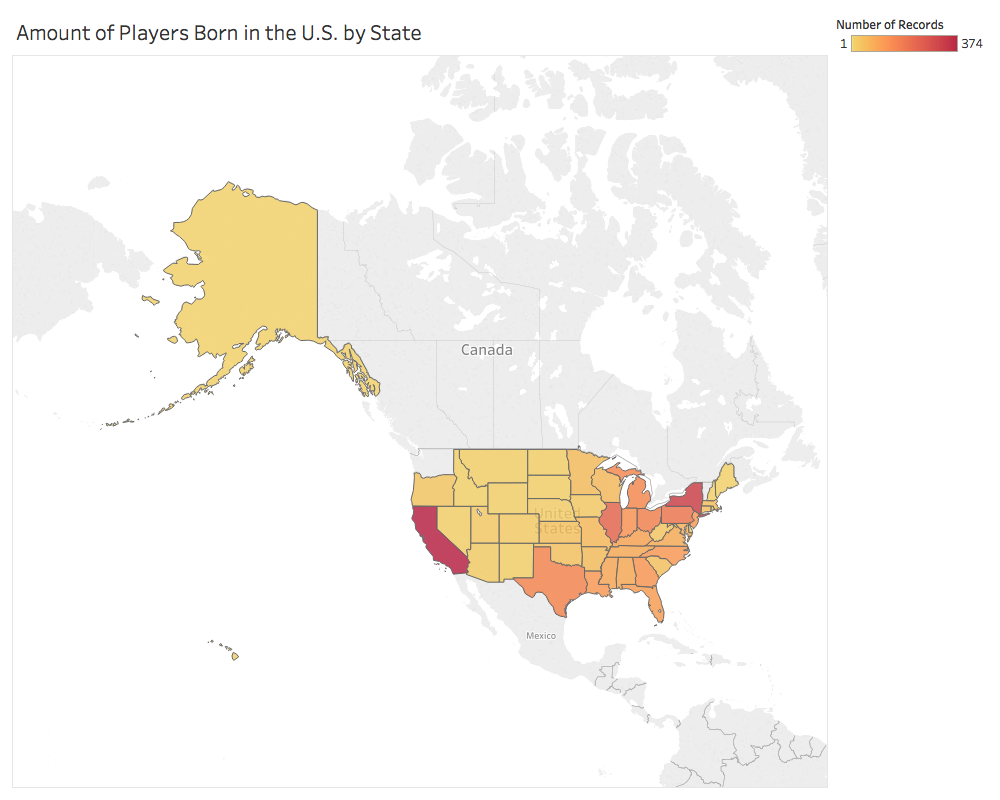

Layout of this report page (visuals, bound fields, positions):
{"tool":"tableau","page":{"name":"Dashboard 1","canvas":[1000,800],"ordinal":0},"visuals":[{"type":"worksheet","title":"Sheet 1","mark":"Automatic","rows":["Team"],"cols":[" Total Attendance"],"box":[8,8,824,784]},{"type":"legend","title":"Sheet 1","param":"[federated.00uhm0e1355ta71ero8c80fyin8d].[none:Starting Year:qk]","box":[832,8,160,65]}]}

Visuals, with their boxes in screenshot pixels (x1, y1, x2, y2), scaled from the page's 1000x800 canvas onto the 1000x800 screenshot:
"Sheet 1" worksheet: (left=8, top=8, right=832, bottom=792)
"Sheet 1" legend: (left=832, top=8, right=992, bottom=73)
